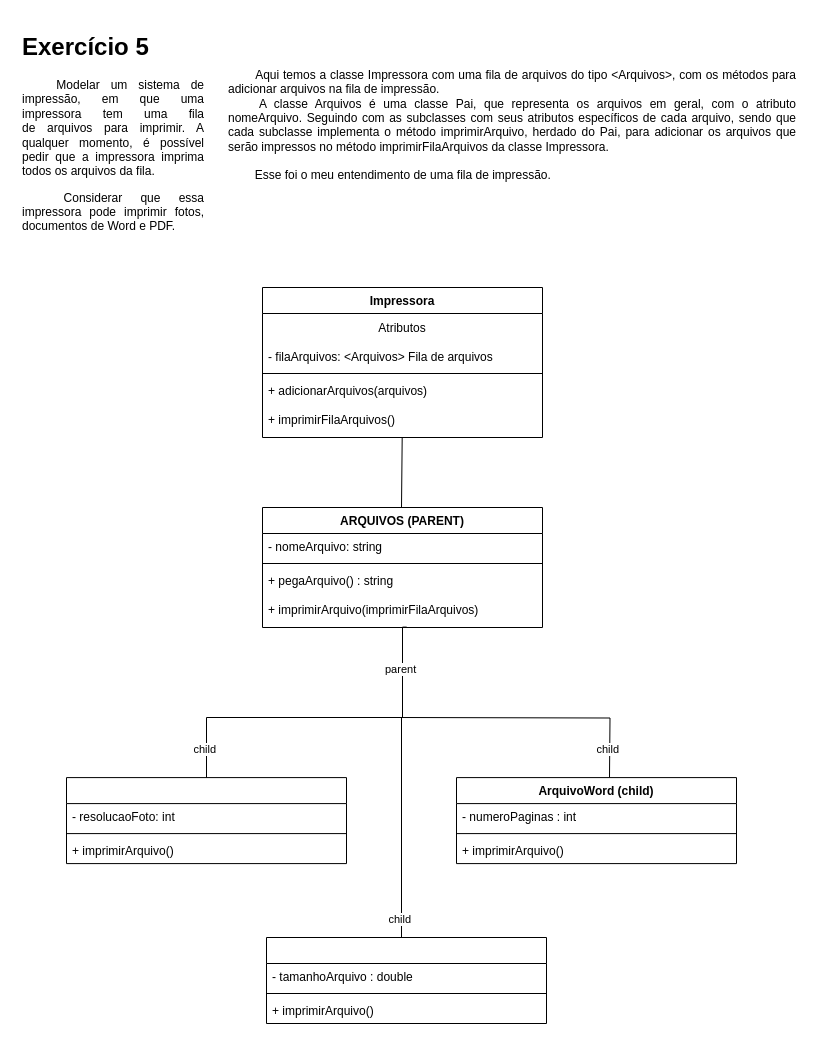
The diagram is 814 pixels wide and 1043 high, and some of its shapes have lost their labels. The box of each missing label's shape, as (x1, y1, x2, y2) in pixels:
ArquivoFoto (child): (66, 777, 346, 864)
ArquivoPDF (child): (266, 936, 546, 1024)
